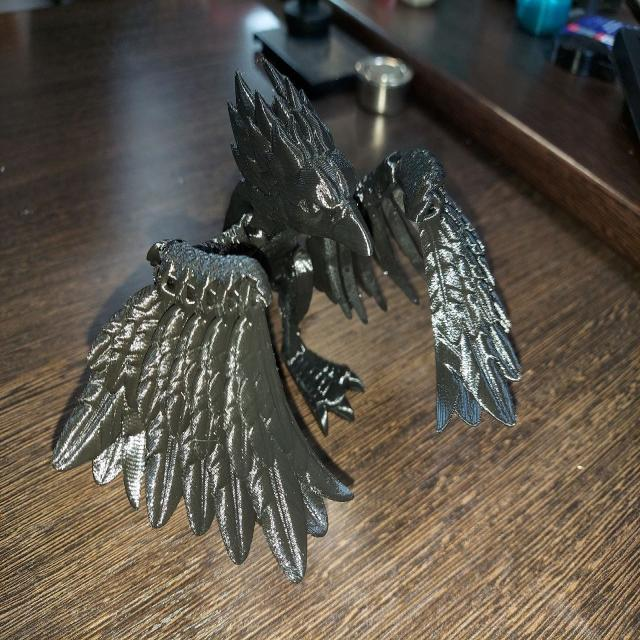Without deffect: (35, 43, 545, 586)
